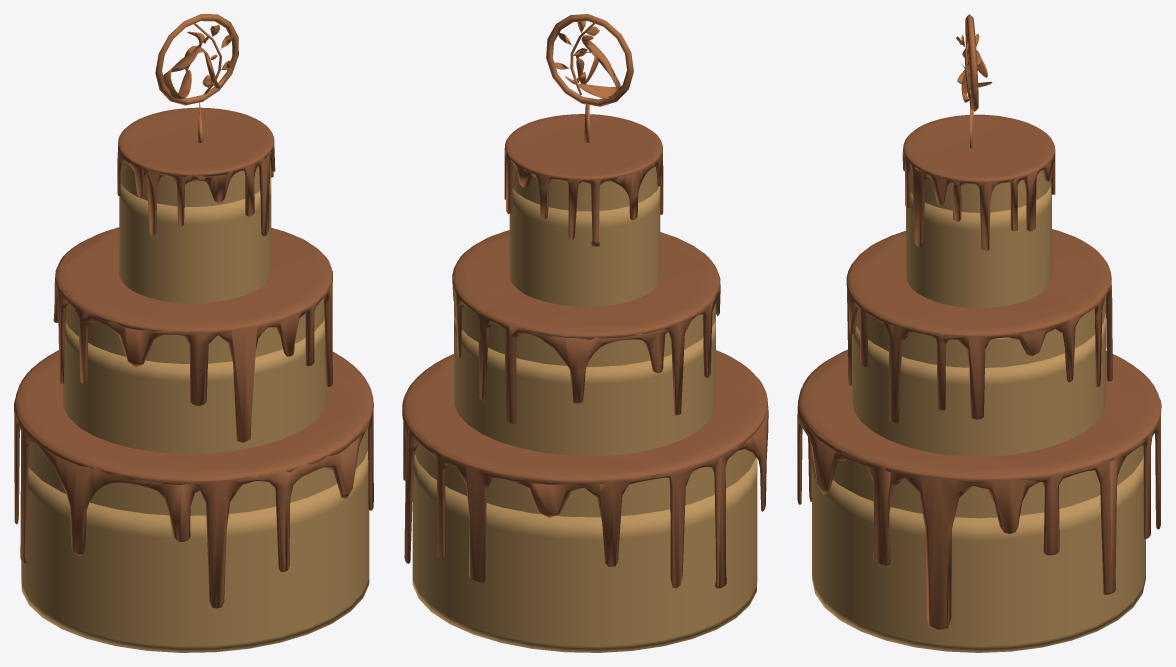
File: 3-tier-caramel-ganache-ring.glb
3 renders of one model, left to right at view 1: azimuth 30°, elevation 25°; view 2: azimuth 150°, elevation 25°; view 3: azimuth 270°, elevation 25°, orthographic.
Parts seen in each view (by area): view 1: Cylinder.022, tHE ICING.005, Cylinder.014, tHE ICING.002, Cylinder.021, tHE ICING.001, Cylinder.020; view 2: Cylinder.022, tHE ICING.005, Cylinder.014, tHE ICING.002, Cylinder.021, tHE ICING.001, Cylinder.020; view 3: Cylinder.022, tHE ICING.005, Cylinder.014, tHE ICING.002, Cylinder.021, tHE ICING.001, Cylinder.020.
Part boxes in pixels (box(x1,y1,x2,y2)): Cylinder.022: box(21, 427, 369, 652); tHE ICING.005: box(14, 350, 373, 608); Cylinder.014: box(63, 298, 327, 453); tHE ICING.002: box(53, 227, 332, 443); Cylinder.021: box(119, 160, 271, 303); tHE ICING.001: box(117, 107, 275, 236); Cylinder.020: box(155, 14, 238, 143); Cylinder.022: box(412, 444, 757, 652); tHE ICING.005: box(402, 350, 768, 588); Cylinder.014: box(454, 290, 715, 456); tHE ICING.002: box(452, 230, 720, 423); Cylinder.021: box(509, 164, 660, 306); tHE ICING.001: box(504, 114, 663, 246); Cylinder.020: box(546, 14, 633, 142); Cylinder.022: box(812, 445, 1145, 652); tHE ICING.005: box(797, 349, 1161, 631); Cylinder.014: box(852, 296, 1105, 456); tHE ICING.002: box(846, 229, 1112, 423); Cylinder.021: box(906, 168, 1051, 307); tHE ICING.001: box(902, 114, 1055, 250); Cylinder.020: box(956, 14, 992, 148).
Bounding box in the file's own units: 4.33 × 7.52 × 4.43.
